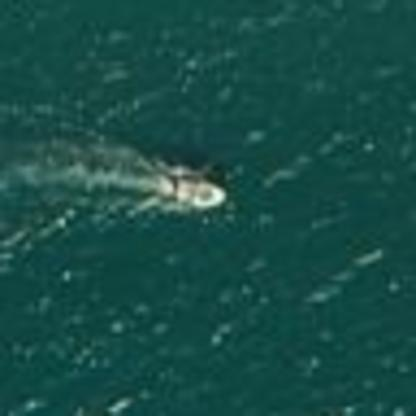ship: (148, 151, 236, 221)
